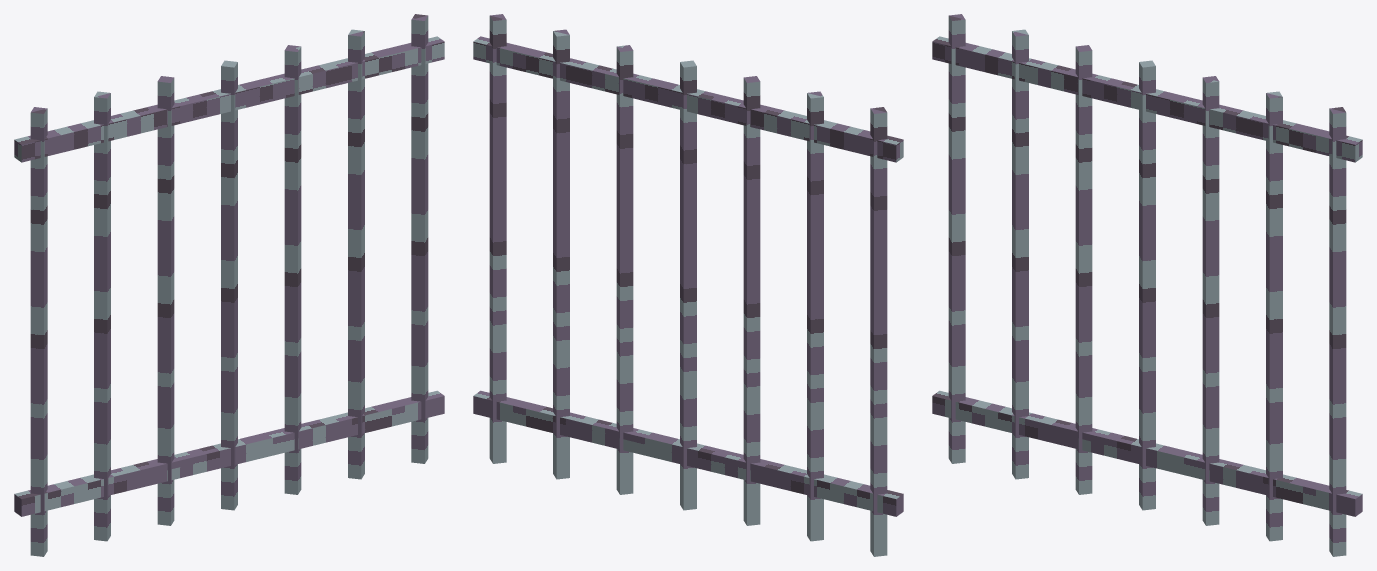
File: a65_correntes_penduradas.glb
The picture shows the model from 3 angles, left to right: view 1: azimuth 30°, elevation 25°; view 2: azimuth 150°, elevation 25°; view 3: azimuth 330°, elevation 25°; orthographic projection.
Visible parts, largest first — view 1: a65_correntes_penduradas; view 2: a65_correntes_penduradas; view 3: a65_correntes_penduradas.
Part boxes in pixels (left/top/right/bottom): a65_correntes_penduradas: left=14, top=14, right=444, bottom=556; a65_correntes_penduradas: left=473, top=14, right=903, bottom=556; a65_correntes_penduradas: left=932, top=14, right=1362, bottom=556.
Size of the model in its own units: 2 by 2 by 0.08.
1 material, 1 textured.
